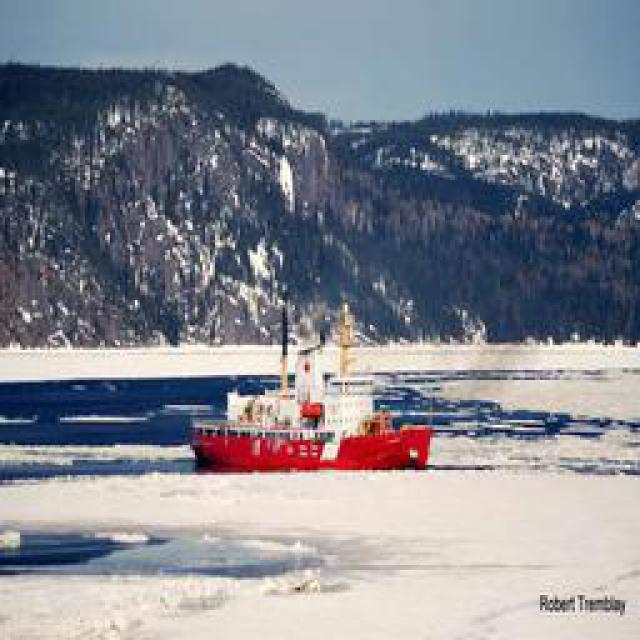Ship: (194, 386, 437, 474)
